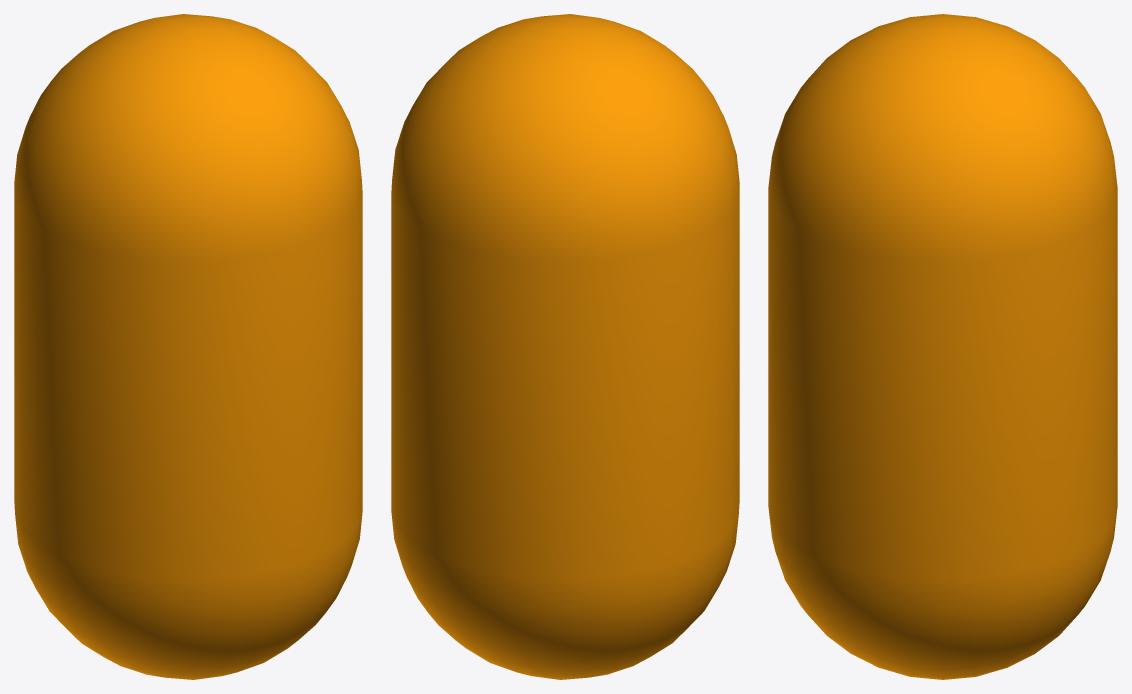
Rendered from ShopItem.fbx.
3 renders of one model, left to right at view 1: azimuth 30°, elevation 25°; view 2: azimuth 150°, elevation 25°; view 3: azimuth 270°, elevation 25°, orthographic.
Visible parts, largest first — view 1: ShopItem; view 2: ShopItem; view 3: ShopItem.
Boxes of the visible parts, bbox=[...] form: ShopItem: bbox=[14, 14, 362, 679]; ShopItem: bbox=[391, 14, 739, 679]; ShopItem: bbox=[768, 14, 1117, 679].
Bounding box in the file's own units: 100 × 200 × 100.
